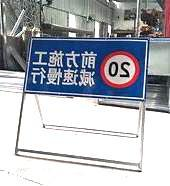sign: (30, 38, 146, 98)
